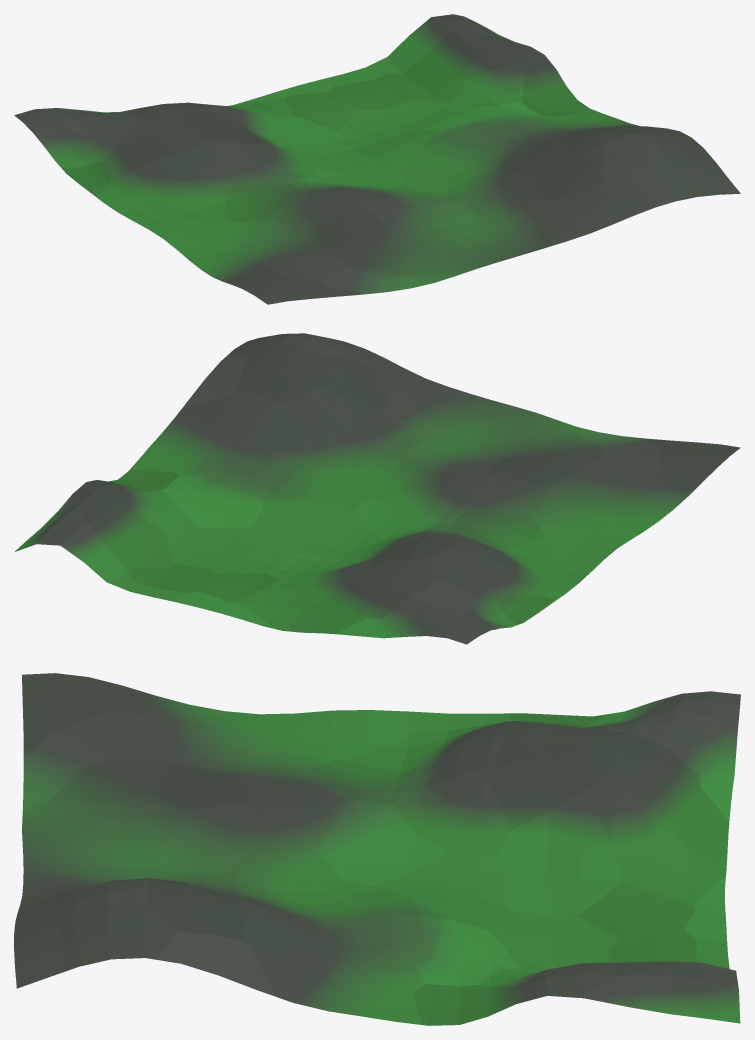
3 renders of one model, top to bottom at view 1: azimuth 30°, elevation 25°; view 2: azimuth 150°, elevation 25°; view 3: azimuth 270°, elevation 25°, orthographic. The views are drawn at different scales.
Parts seen in each view (by area): view 1: Plane_5; view 2: Plane_5; view 3: Plane_5.
Part boxes in pixels (x1,y1,x2,y2): Plane_5: (14, 14, 740, 304); Plane_5: (15, 333, 740, 644); Plane_5: (14, 673, 740, 1025).
Bounding box in the file's own units: 14.69 × 2.49 × 14.38.
Materials: 1 (1 with a texture image).
